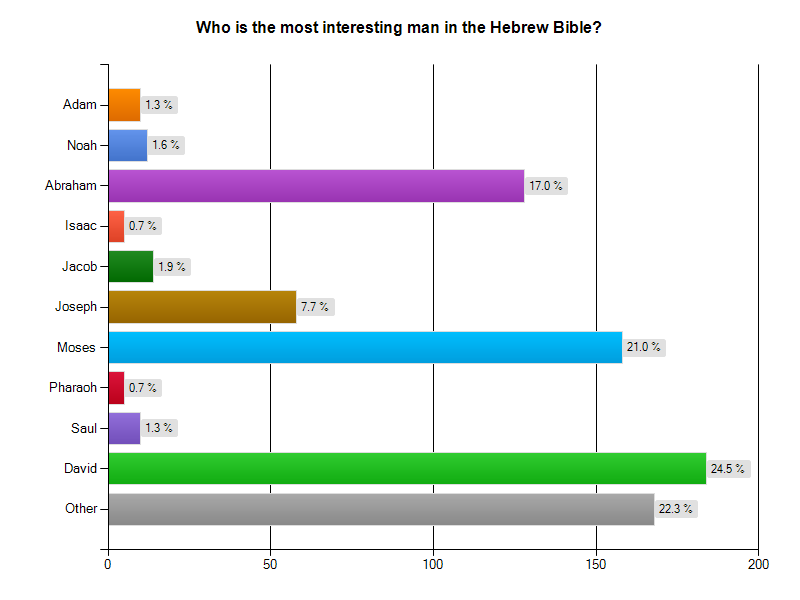canvas: (112, 68, 754, 543)
title: (196, 11, 610, 44)
x-axis: (99, 544, 775, 557)
x-labels: (103, 557, 774, 574)
y-axis: (99, 60, 113, 560)
y-labels: (43, 66, 100, 531)
